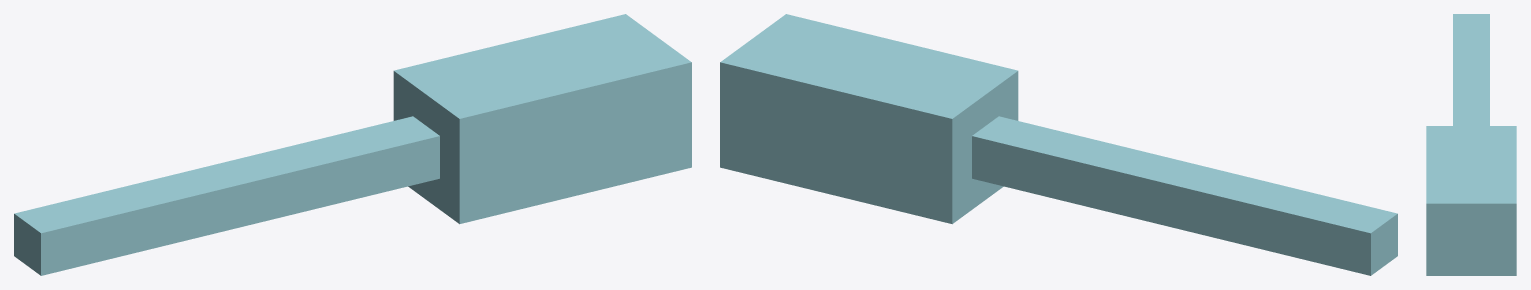
File: cuboid_brush_v8001.obj
3 views of the same model, side by side, from view 1: azimuth 30°, elevation 25°; view 2: azimuth 150°, elevation 25°; view 3: azimuth 270°, elevation 25° (orthographic). The views are drawn at different scales.
Size of the model in its own units: 0.2866 by 0.0457 by 0.0519.
1 material, 1 textured.
